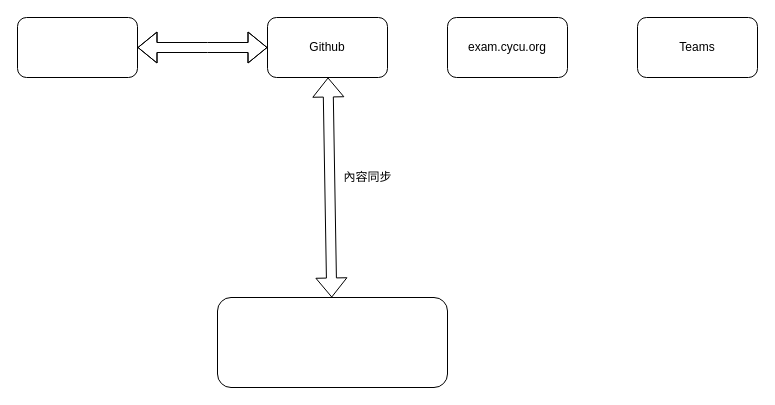
Some shapes in this 775 by 405 pixel diagram are drawn without their labels. Here are the shapes that lost their labels. From the top down, the box of each, then its label:
(16, 16, 138, 78): Replit
(216, 296, 448, 388): PC
